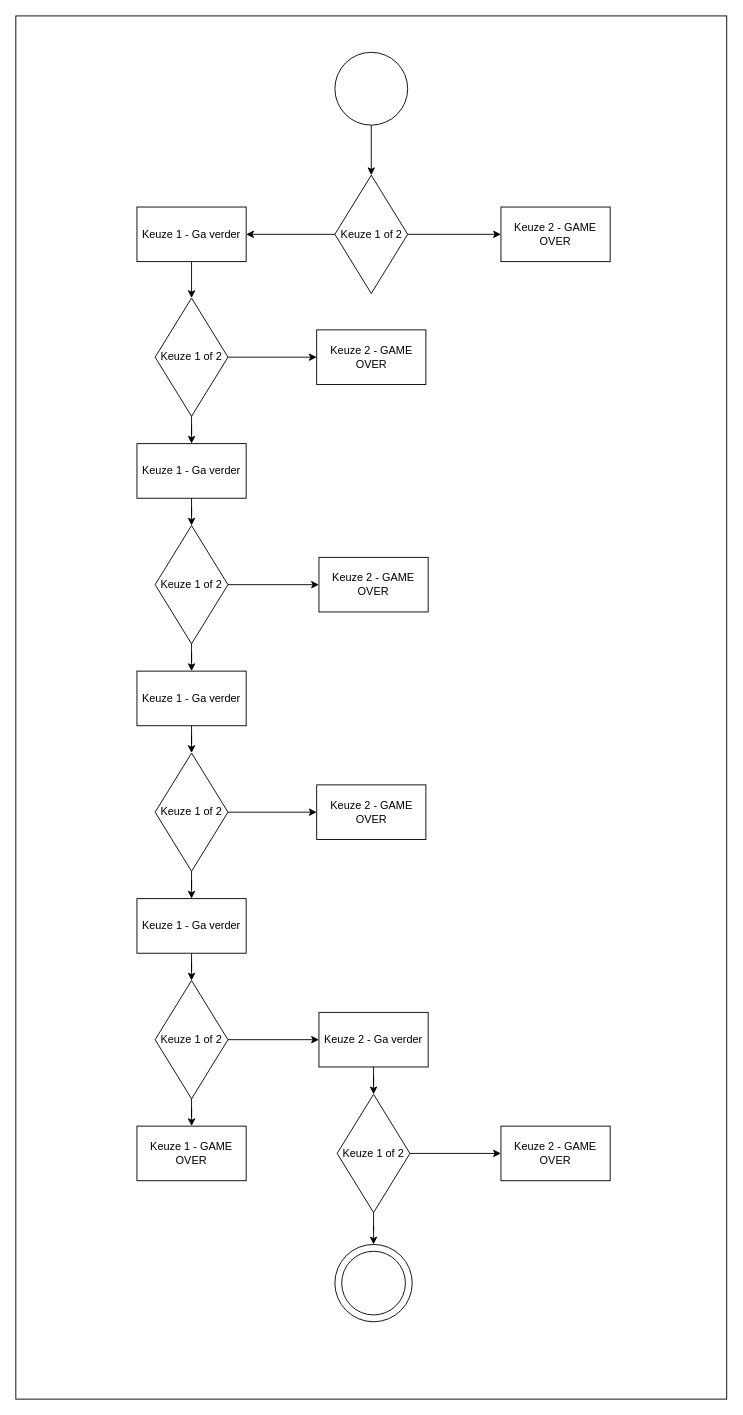
Image size: 743x1415. Some labels were removed from this diagram. Here are the shapes that lost their labels. From the top down, the centre of each, then its label:
At (x=371, y=88): "Start".
At (x=373, y=1282): "WIN".
